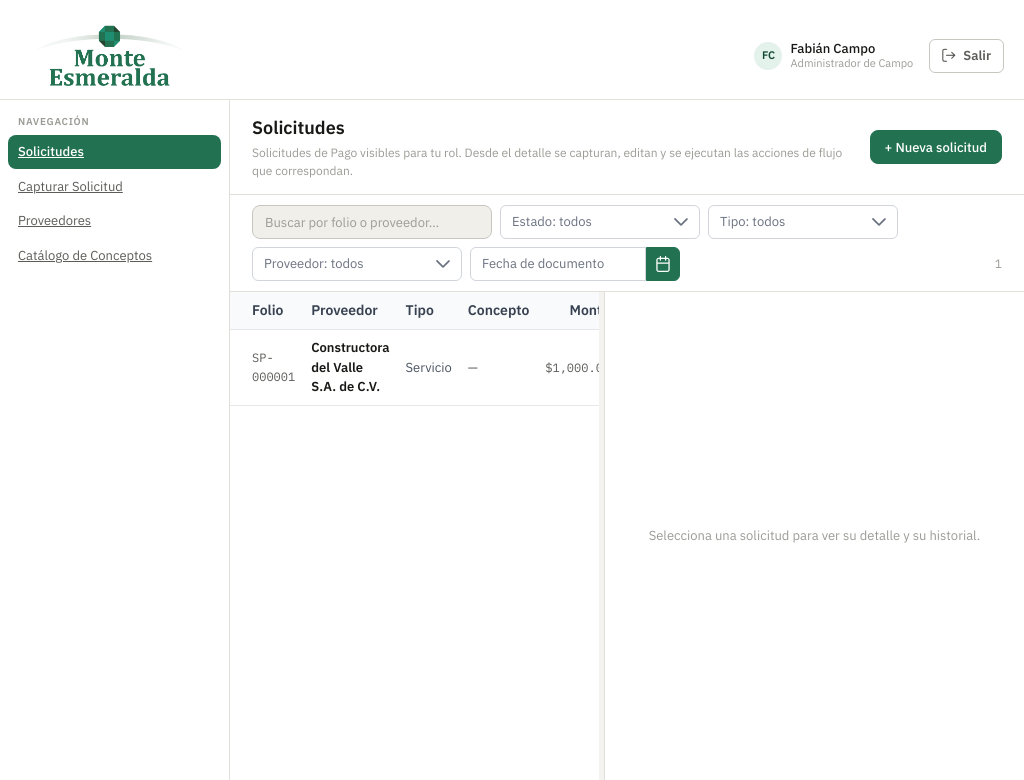
Test: el control de carga NO aparece si el estado ya no admite adjuntos
Click the text "SP-000001" at [263, 357], box [252,350,295,384]
(page scrolled)
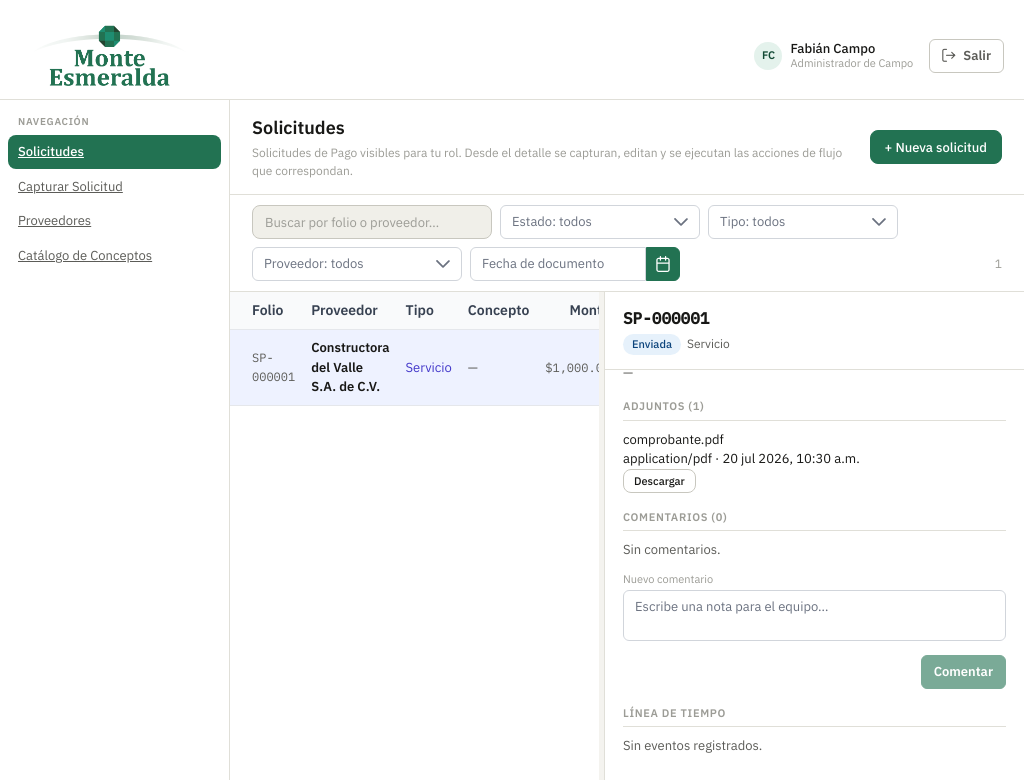
Expected: the button "Descargar" is shown, [623,468,696,492]
Expected: the button "Comentar" is shown, [921,654,1006,688]
